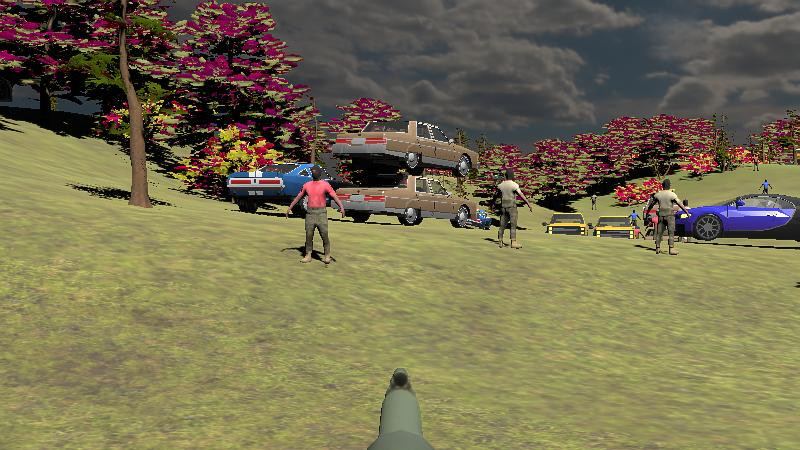Human: (287, 170, 344, 264), (493, 169, 533, 250), (646, 184, 689, 256)
car: (332, 119, 481, 176), (330, 176, 478, 227), (676, 192, 800, 246), (227, 160, 343, 212), (546, 211, 587, 238), (594, 217, 635, 241)
